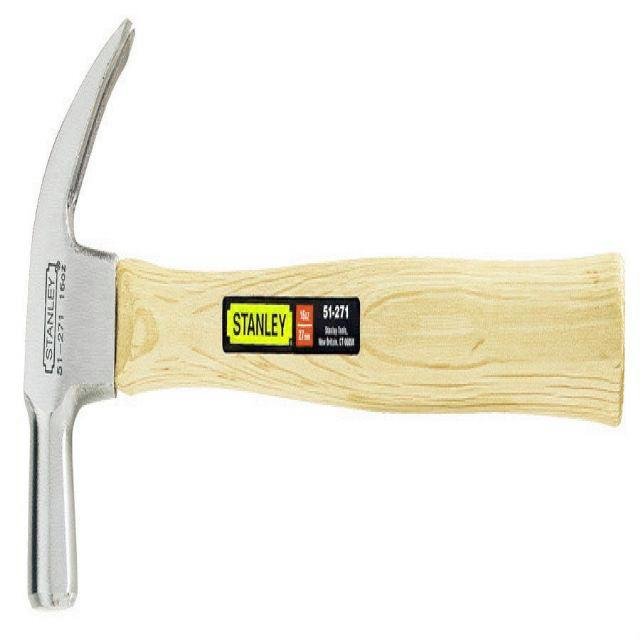hammer: (15, 16, 629, 626)
